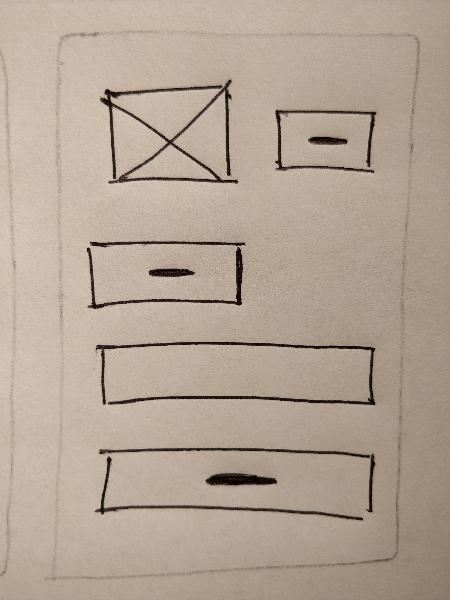button: (87, 439, 379, 533), (78, 235, 249, 319), (269, 104, 380, 180)
image: (94, 77, 245, 195)
text_input: (89, 335, 383, 417)
